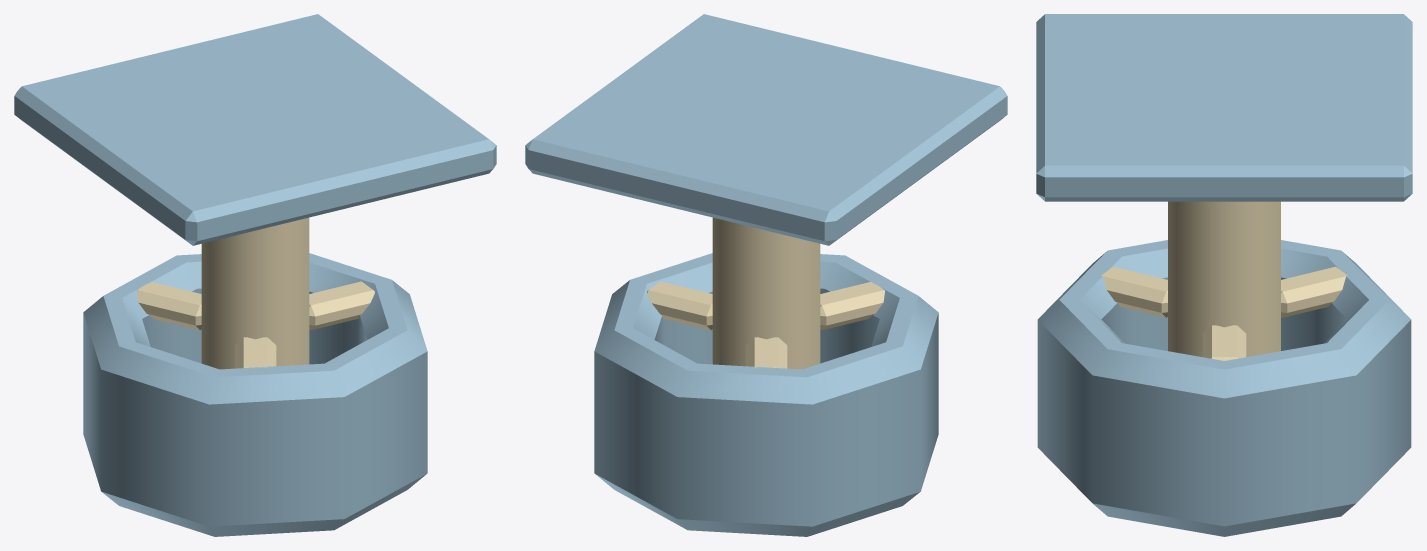
File: R4M_HoverEngine_LOD1.glb
3 views of the same model, side by side, from view 1: azimuth 30°, elevation 25°; view 2: azimuth 150°, elevation 25°; view 3: azimuth 270°, elevation 25° (orthographic). The views are drawn at different scales.
Parts seen in each view (by area): view 1: R4M_HoverEngine_LOD1; view 2: R4M_HoverEngine_LOD1; view 3: R4M_HoverEngine_LOD1.
Part boxes in pixels (left/top/right/bottom): R4M_HoverEngine_LOD1: left=14, top=14, right=496, bottom=536; R4M_HoverEngine_LOD1: left=525, top=14, right=1007, bottom=536; R4M_HoverEngine_LOD1: left=1036, top=14, right=1412, bottom=536.
Size of the model in its own units: 0.52 by 0.575 by 0.52.
